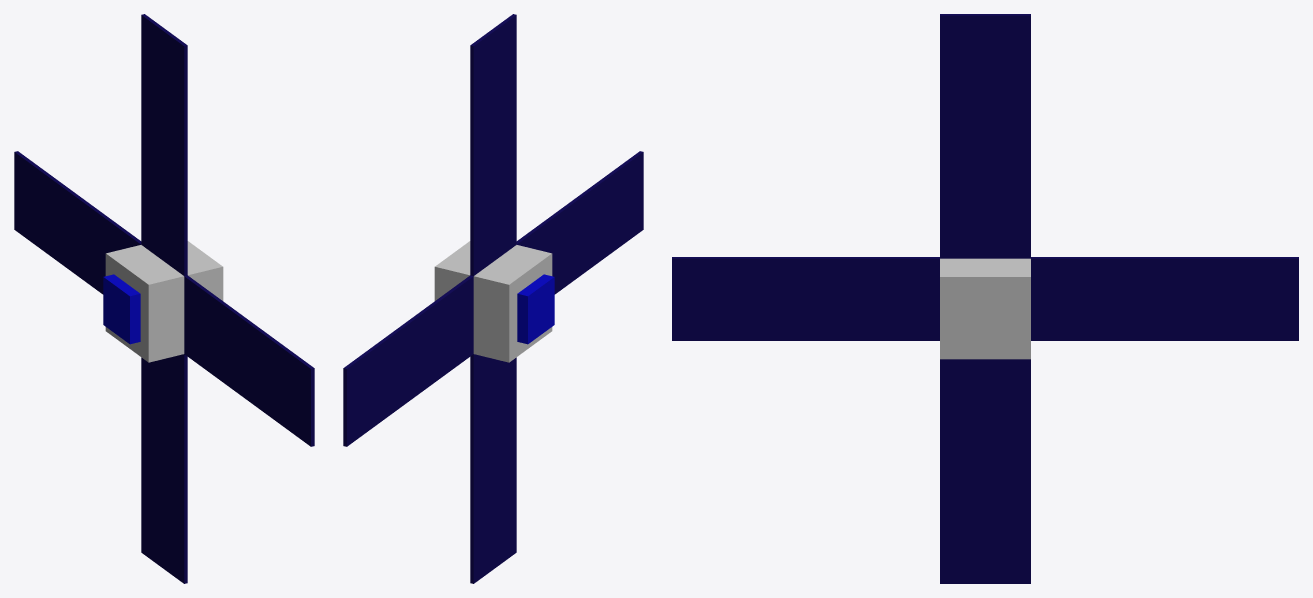
Rendered from Solar_Square.obj.
3 views of the same model, side by side, from view 1: azimuth 30°, elevation 25°; view 2: azimuth 150°, elevation 25°; view 3: azimuth 270°, elevation 25° (orthographic). The views are drawn at different scales.
Visible parts, largest first — view 1: Solar_Square_Cube.007; view 2: Solar_Square_Cube.007; view 3: Solar_Square_Cube.007.
Boxes of the visible parts, x1=… form: Solar_Square_Cube.007: x1=14, y1=14, x2=314, y2=583; Solar_Square_Cube.007: x1=343, y1=14, x2=643, y2=583; Solar_Square_Cube.007: x1=672, y1=14, x2=1298, y2=583.
Size of the model in its own units: 1 by 6.06 by 6.06.
